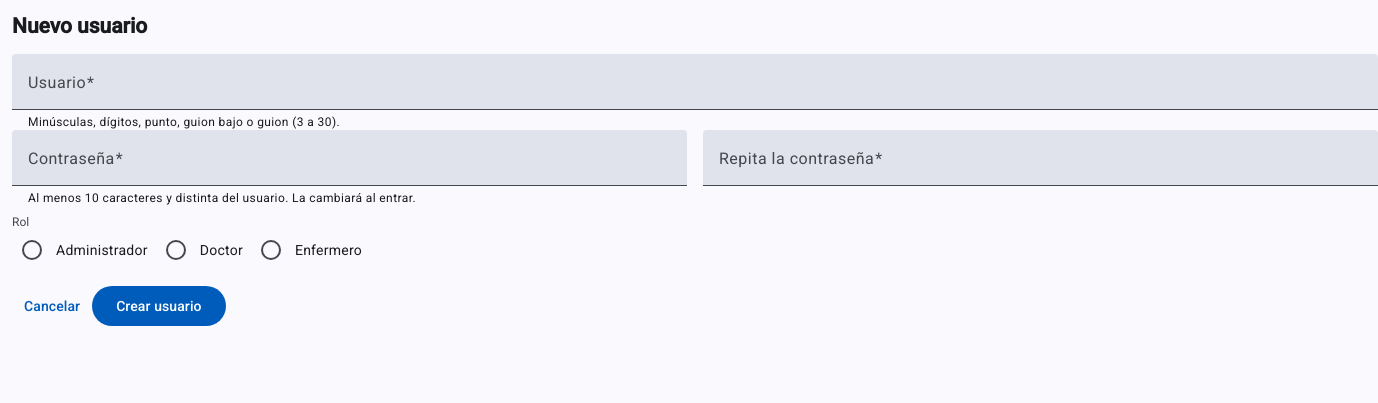
Scenario: UsuarioDialogoComponent › muestra dentro del formulario el 409 del servidor
Type "otro.admin" into the field labelled "Usuario" at (695, 90), box [28,78,1362,102]
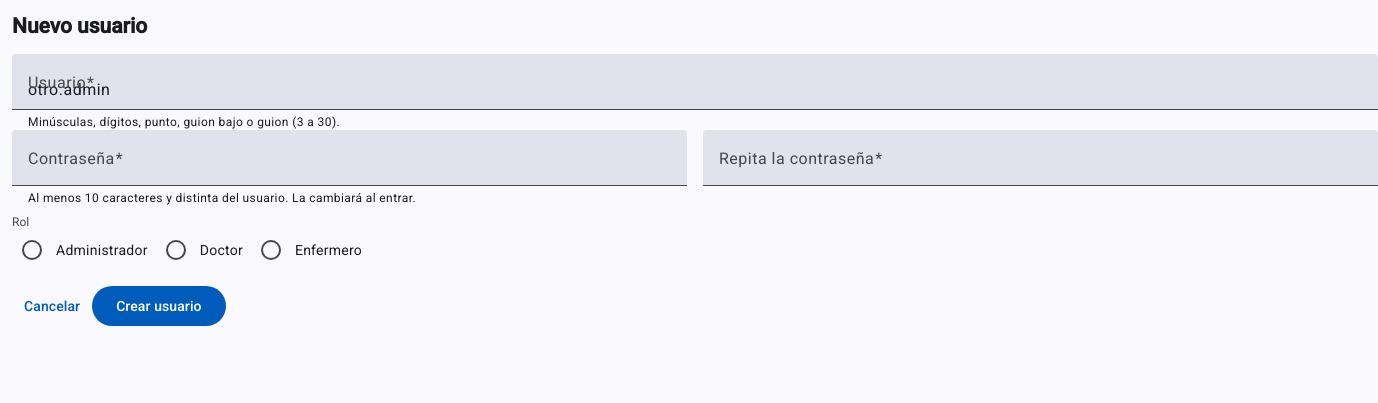
Type "clave-segura-1" into the password field labelled "Contraseña" at (350, 166), box [28,154,671,178]
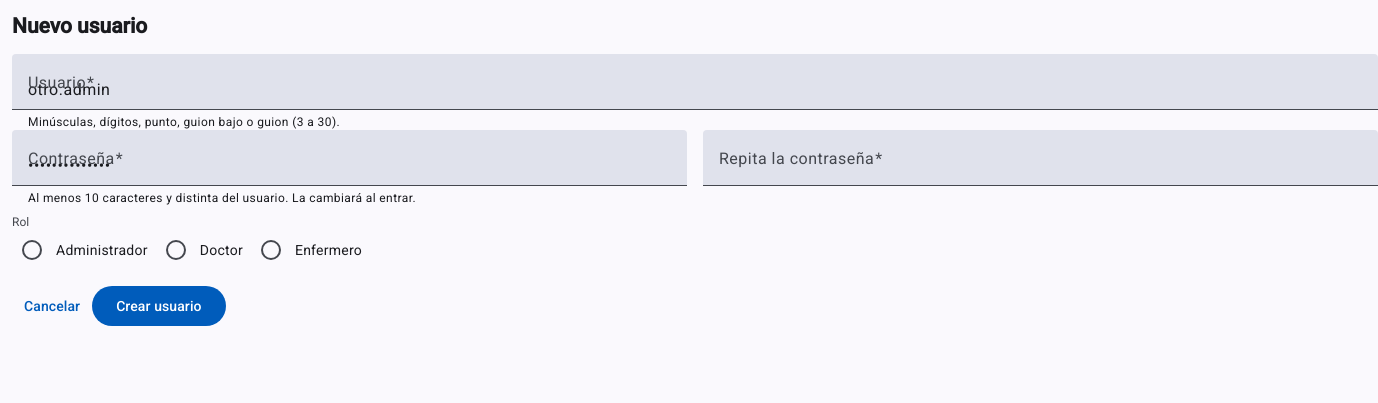
Type "clave-segura-1" into the password field labelled "Repita la contraseña" at (1040, 166), box [719,154,1362,178]
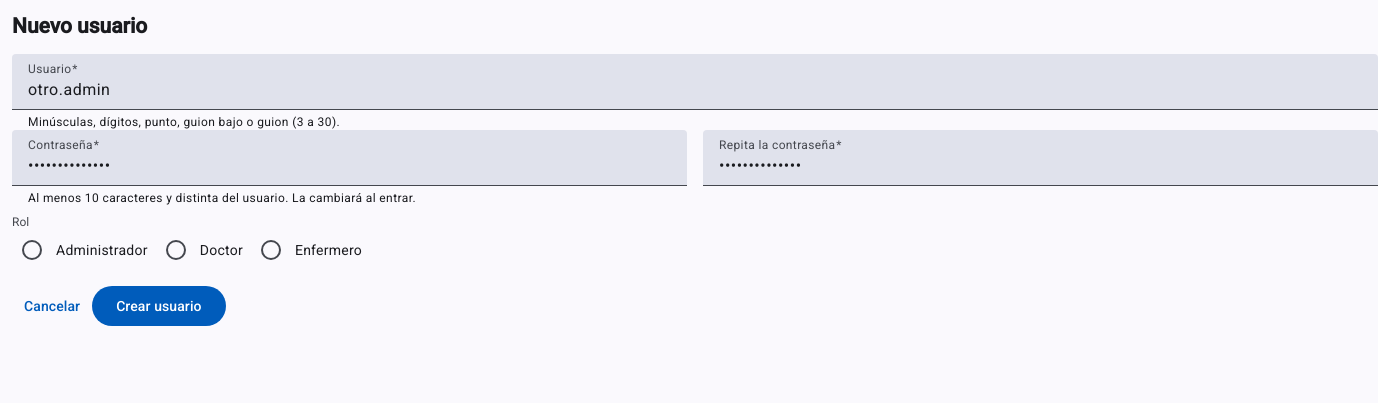
Click the radio button labelled "Administrador" at (85, 250), box [22,240,148,260]
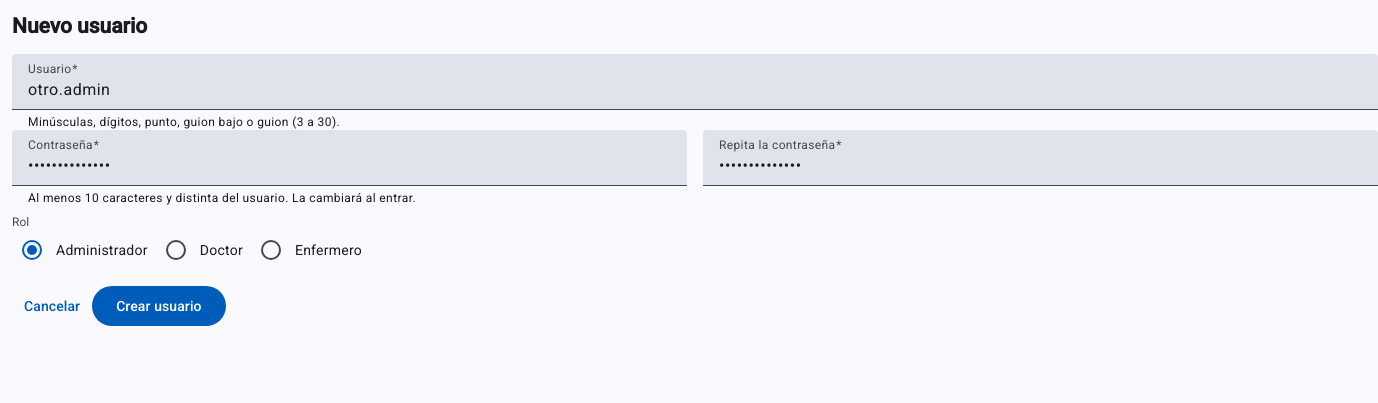
Click the submit button at (159, 306), box [92,286,226,326]
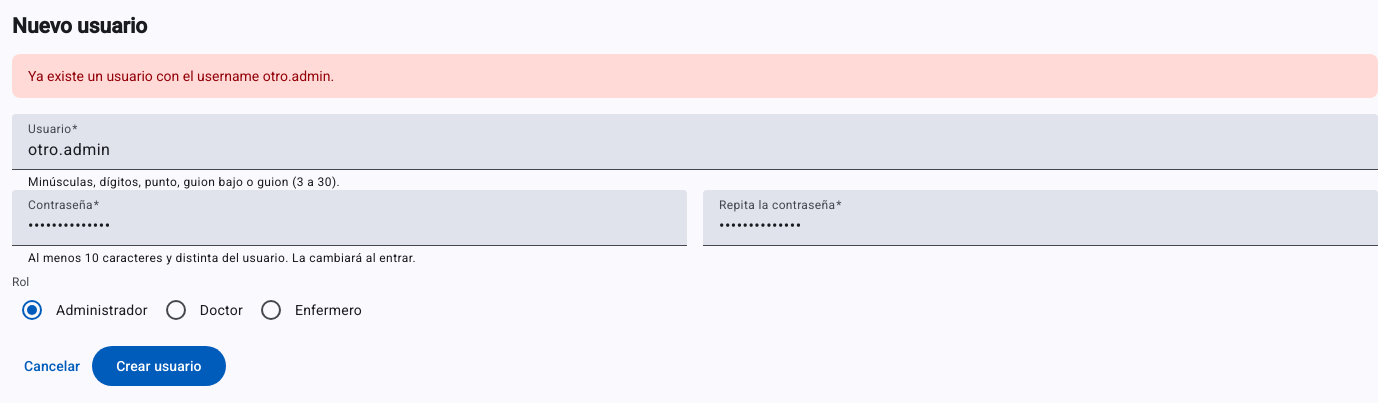
Expected: the text "Ya existe un usuario con el username otro.admin." is shown, [28,68,334,84]
